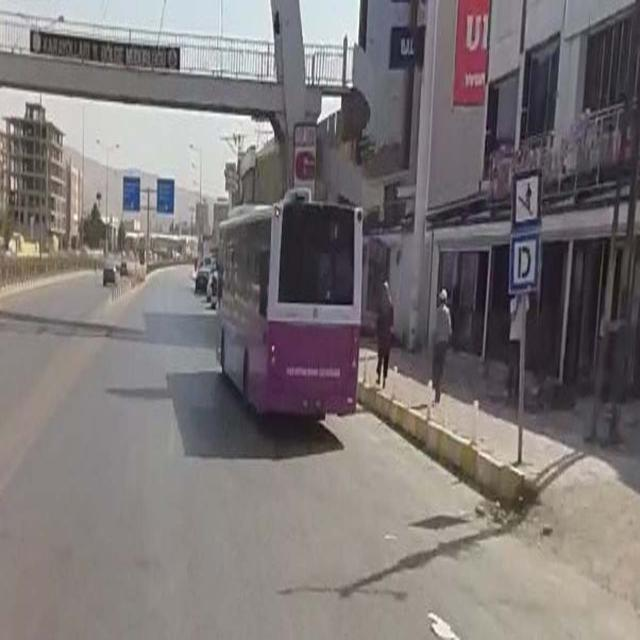durak: (508, 236, 540, 293)
